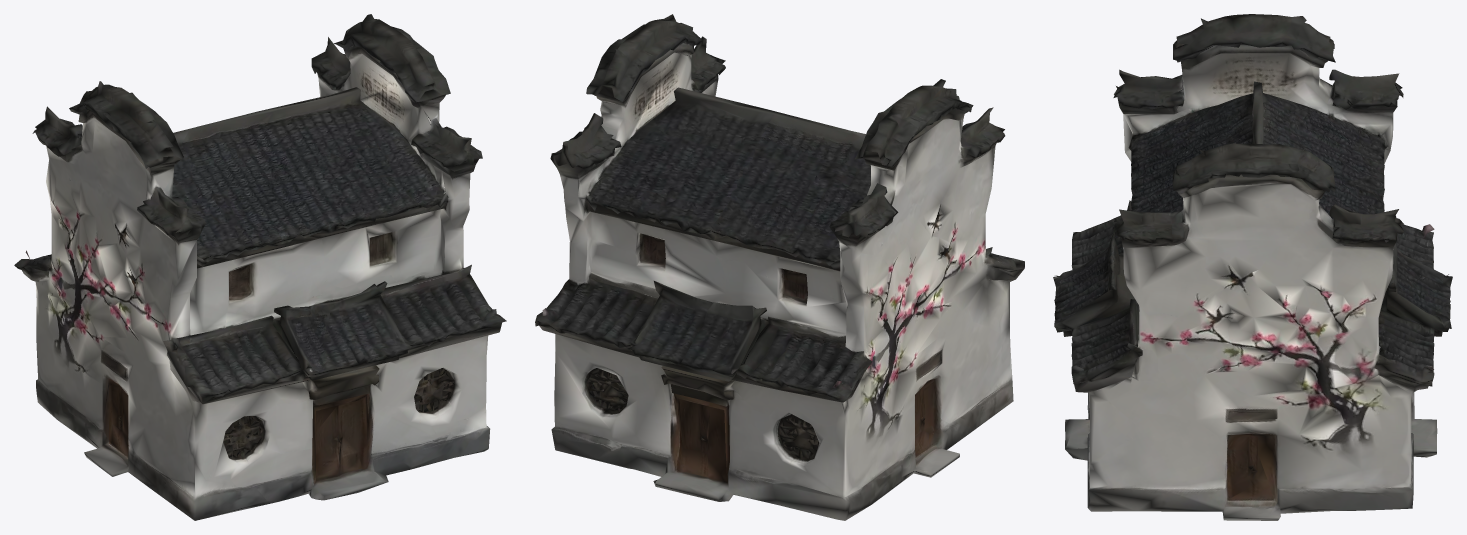
Rendered from h_cloud.glb.
3 views of the same model, side by side, from view 1: azimuth 30°, elevation 25°; view 2: azimuth 150°, elevation 25°; view 3: azimuth 270°, elevation 25° (orthographic).
Visible parts, largest first — view 1: tripo_node_4f4b5a80-af94-4ffd-a2ba-a9bdd4370ff0; view 2: tripo_node_4f4b5a80-af94-4ffd-a2ba-a9bdd4370ff0; view 3: tripo_node_4f4b5a80-af94-4ffd-a2ba-a9bdd4370ff0.
Part boxes in pixels (bbox=[...]): tripo_node_4f4b5a80-af94-4ffd-a2ba-a9bdd4370ff0: bbox=[14, 14, 506, 520]; tripo_node_4f4b5a80-af94-4ffd-a2ba-a9bdd4370ff0: bbox=[535, 14, 1024, 520]; tripo_node_4f4b5a80-af94-4ffd-a2ba-a9bdd4370ff0: bbox=[1053, 14, 1452, 520].
Bounding box in the file's own units: 0.9353 × 0.9924 × 0.9982.
1 material, 1 textured.
